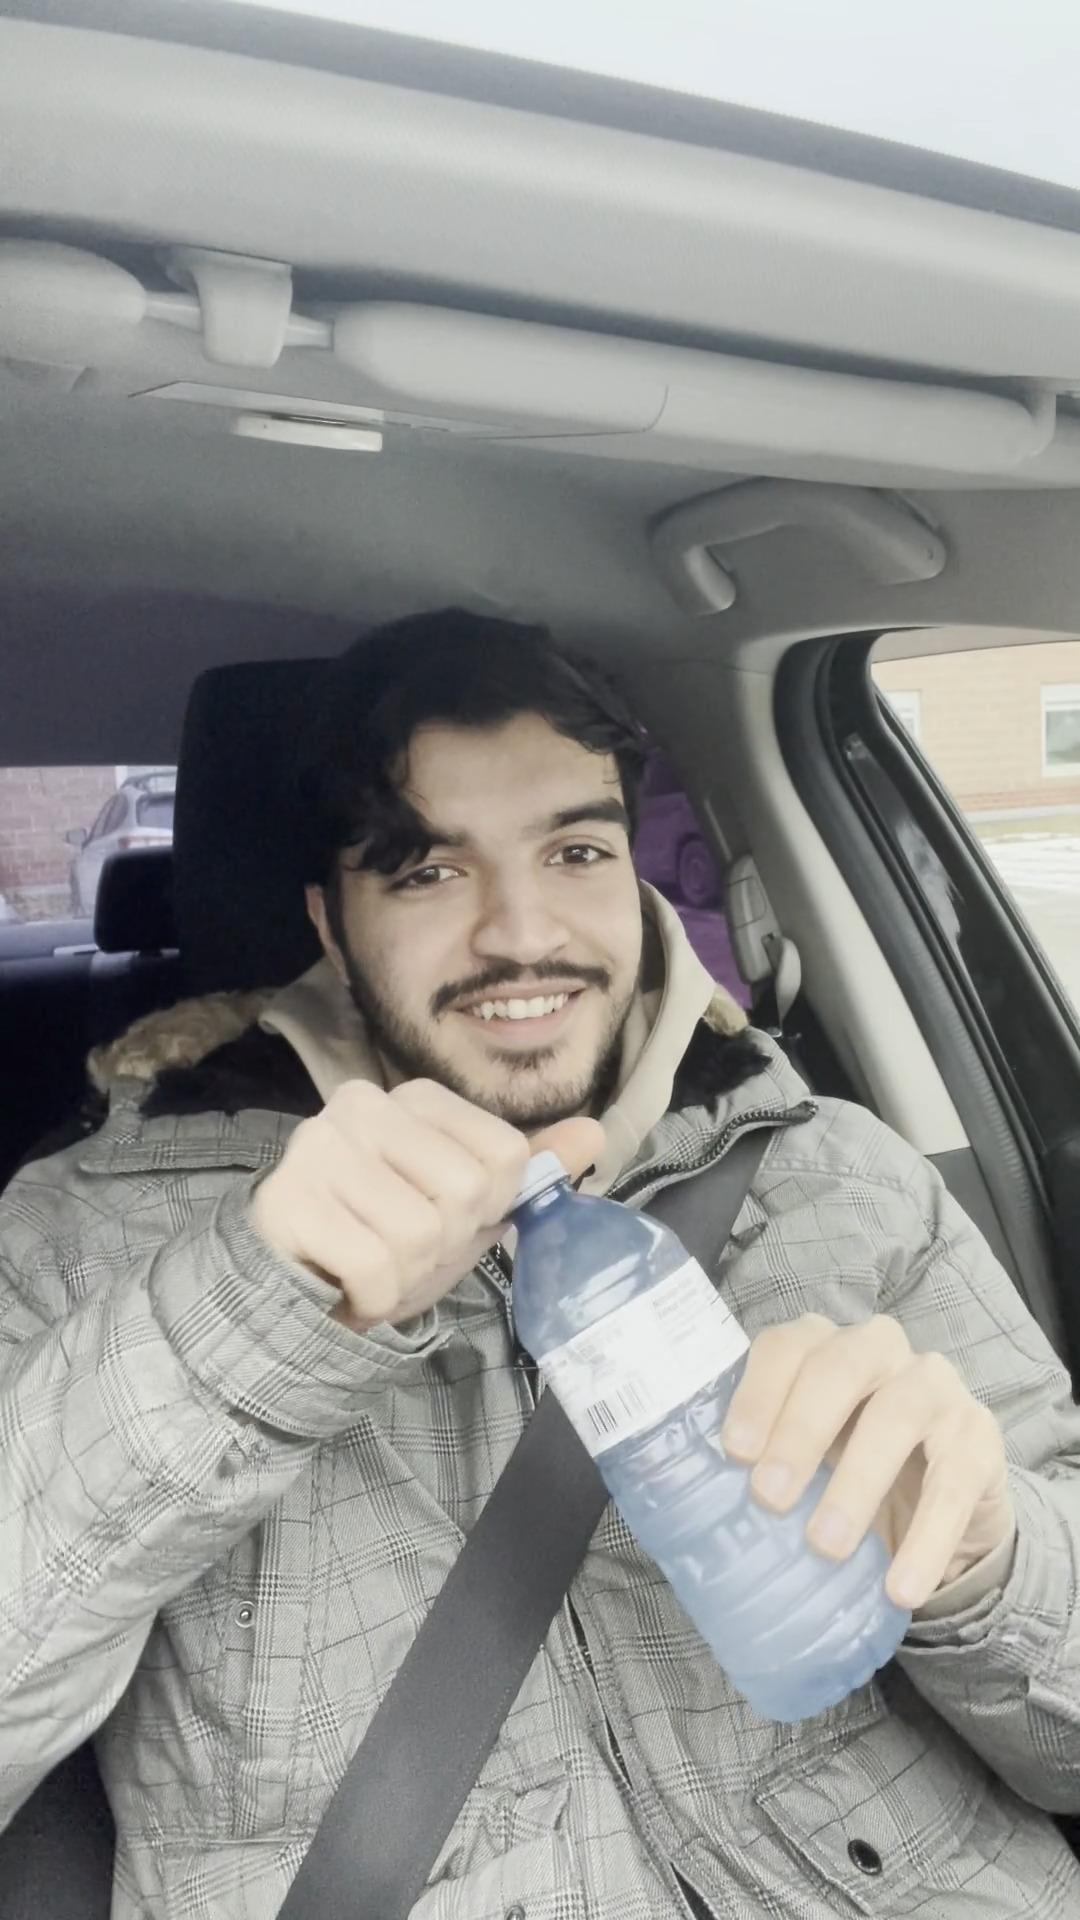drinking: (450, 1130, 915, 1716)
seatbelt: (177, 1150, 964, 1920)
